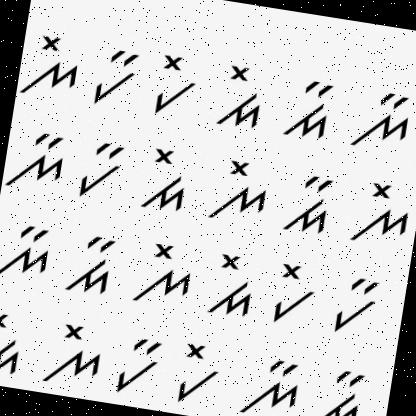dan: (276, 161, 342, 244), (58, 226, 124, 304), (278, 74, 340, 150), (309, 362, 376, 416)
do: (202, 246, 260, 327), (214, 58, 273, 136), (136, 141, 193, 216), (0, 307, 30, 380)
nan: (346, 83, 416, 161), (233, 344, 307, 416), (2, 124, 70, 198), (0, 214, 54, 291)
no: (32, 314, 110, 396), (343, 170, 416, 257), (127, 236, 200, 318), (201, 150, 273, 231), (17, 29, 86, 107)
pan: (74, 131, 132, 206), (86, 40, 143, 113), (110, 329, 166, 401), (330, 270, 384, 340)
po: (262, 252, 324, 332), (166, 336, 227, 408), (148, 50, 204, 125)
